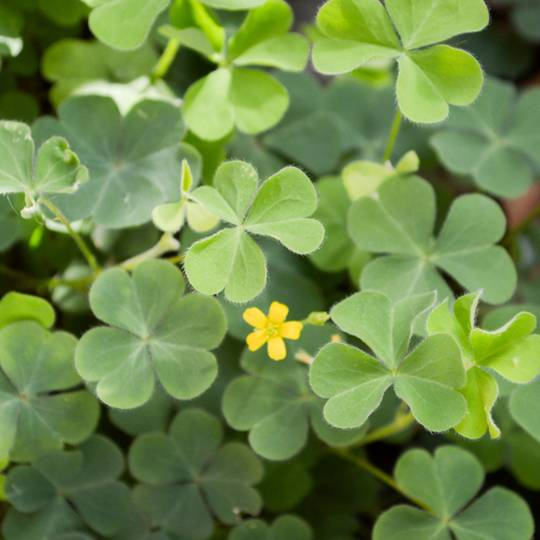oxalis: (23, 5, 529, 529)
